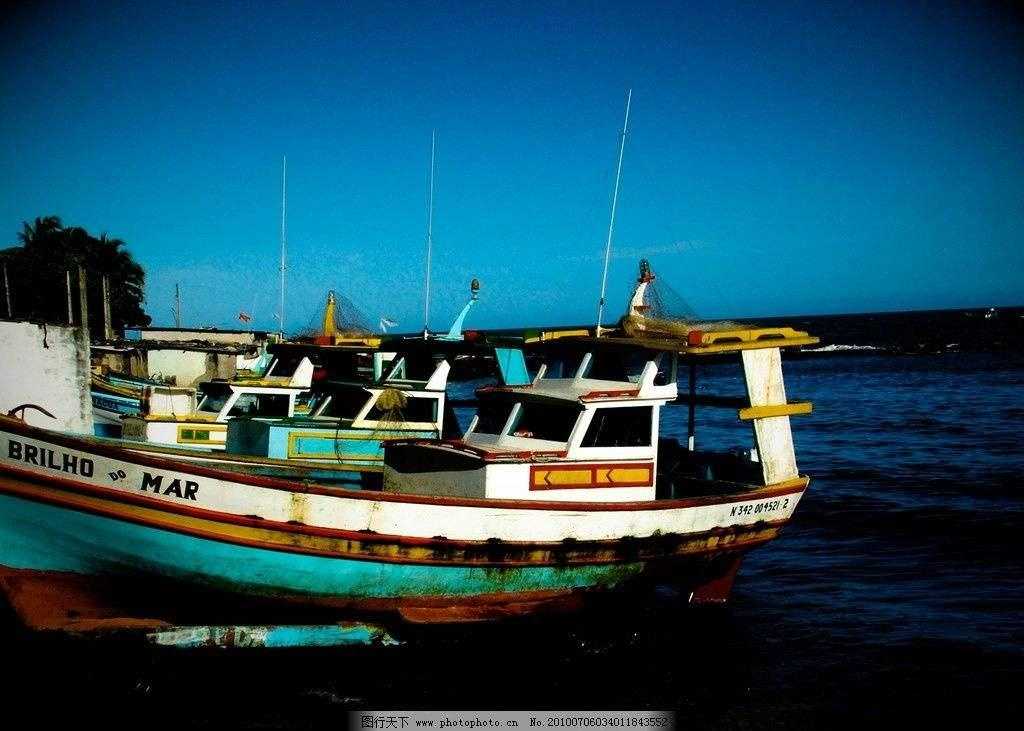otherboat: (2, 265, 830, 676)
